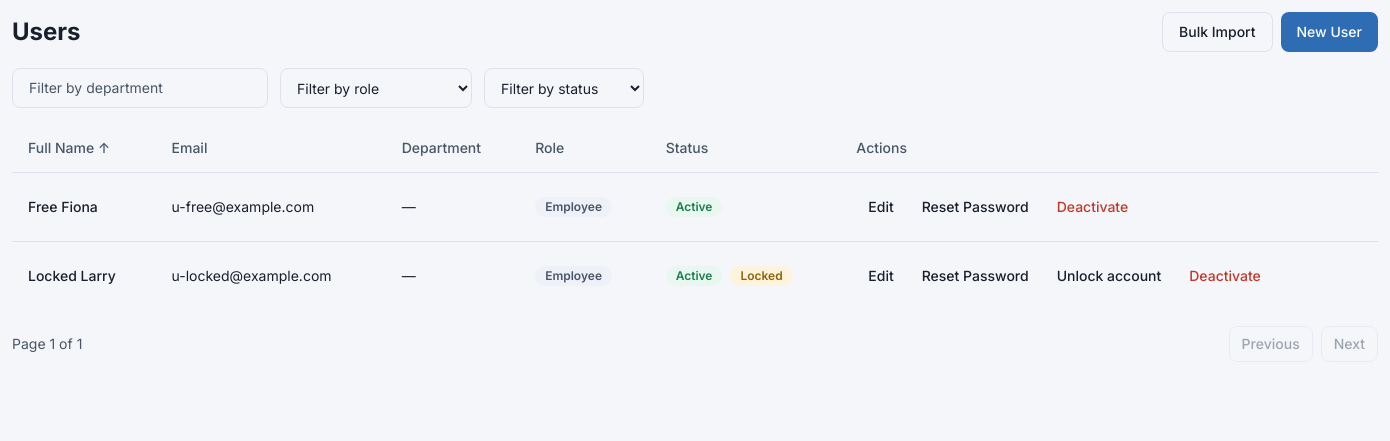
Scenario: UsersListPage unlock action (FR-BB115 AC-8) › shows an error notice when unlock fails and keeps the action available
Expected: the text "Locked Larry" is shown, [12, 241, 156, 310]
Click the button "Unlock account" at (1109, 276), box [1045, 258, 1173, 294]
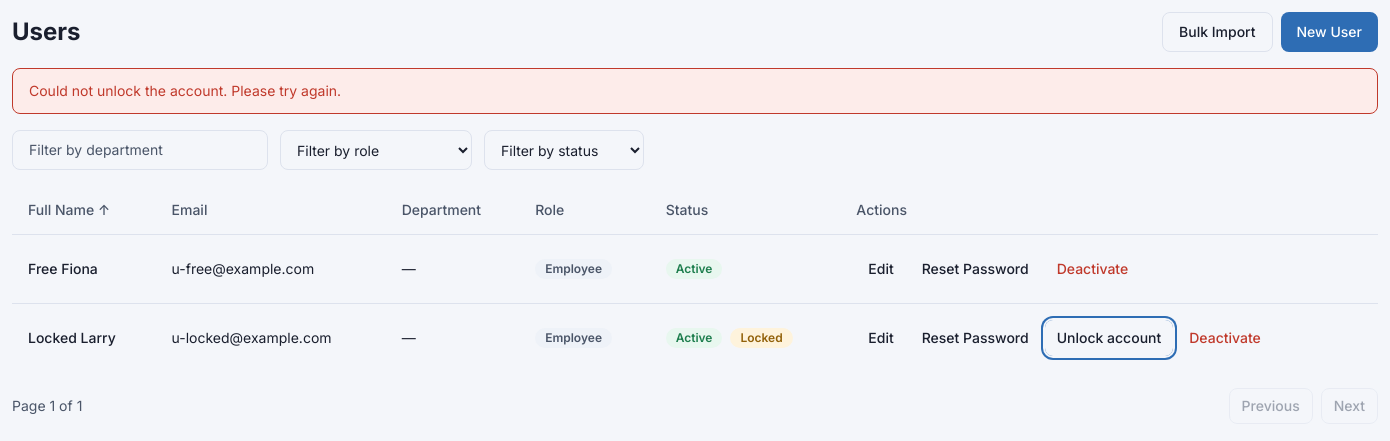
Expected: the button "Unlock account" is shown, [1045, 320, 1173, 356]
Expected: the message shows "Could not unlock", [29, 82, 341, 99]
